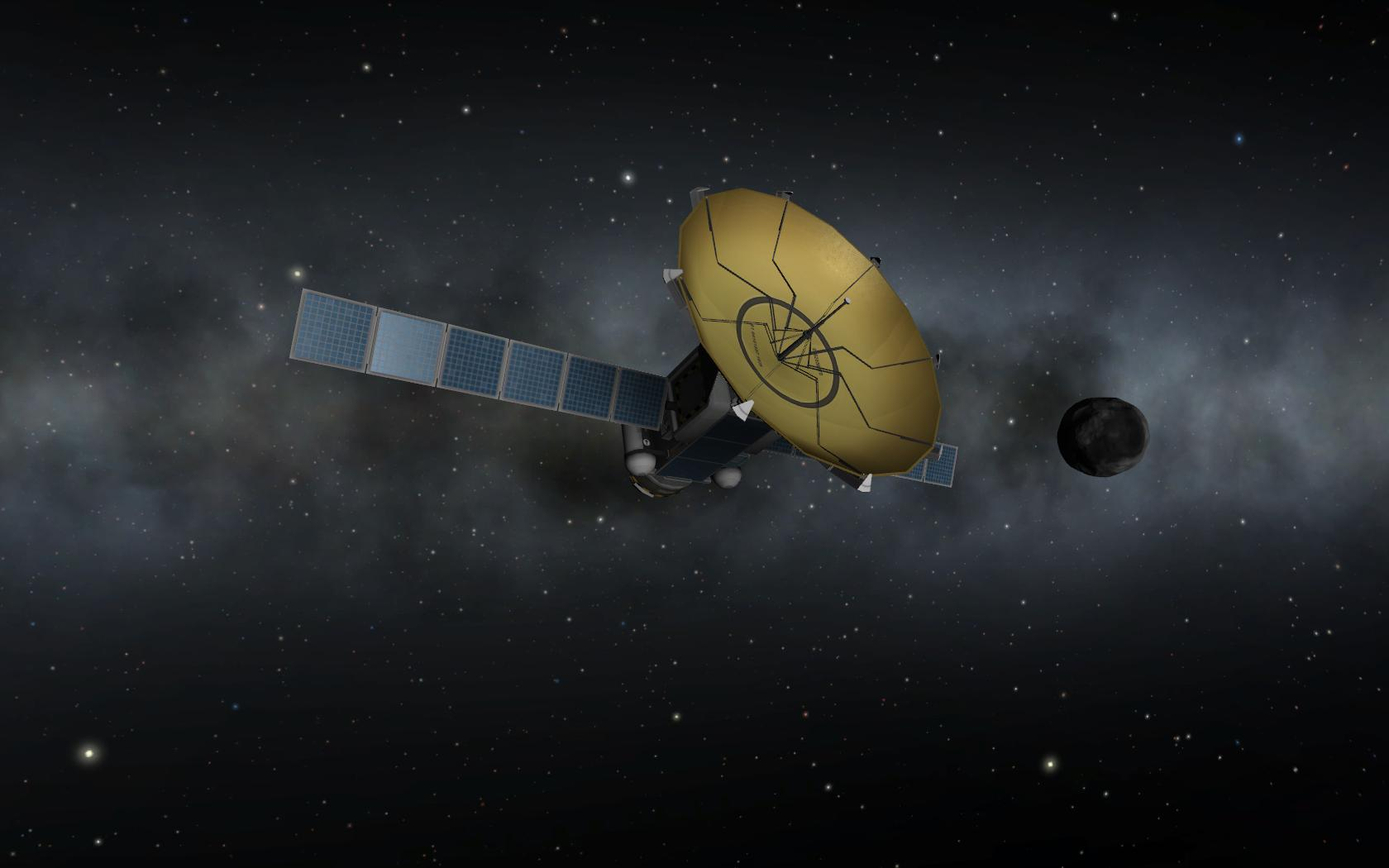antenna: (660, 182, 945, 493)
body: (620, 341, 783, 499)
solar: (287, 285, 670, 433), (760, 434, 961, 490), (652, 411, 774, 485)
